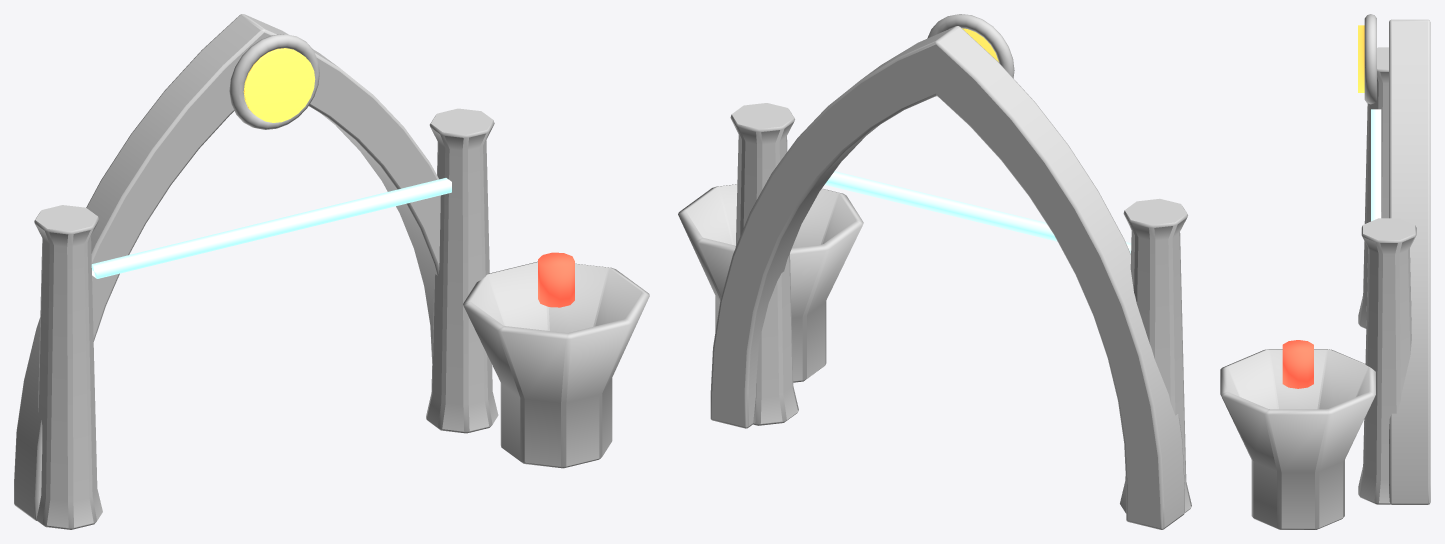
Rendered from prop_content_inspector.glb.
3 renders of one model, left to right at view 1: azimuth 30°, elevation 25°; view 2: azimuth 150°, elevation 25°; view 3: azimuth 270°, elevation 25°, orthographic. The views are drawn at different scales.
Parts seen in each view (by area): view 1: ground__iron_decay, ground__brass_pipe, ground__screen_glow, ground__optic_lens, ground__trim_brass, ground__red_warning; view 2: ground__brass_pipe, ground__iron_decay, ground__screen_glow, ground__trim_brass; view 3: ground__iron_decay, ground__brass_pipe, ground__red_warning, ground__screen_glow, ground__trim_brass, ground__optic_lens.
Boxes of the visible parts, <box> form: ground__iron_decay: <box>34,108,649,529</box>; ground__brass_pipe: <box>14,14,440,520</box>; ground__screen_glow: <box>91,178,451,278</box>; ground__optic_lens: <box>243,48,315,122</box>; ground__trim_brass: <box>229,34,319,129</box>; ground__red_warning: <box>538,252,574,307</box>; ground__brass_pipe: <box>710,26,1184,529</box>; ground__iron_decay: <box>678,103,1191,513</box>; ground__screen_glow: <box>824,171,1131,253</box>; ground__trim_brass: <box>927,14,1014,77</box>; ground__iron_decay: <box>1220,47,1416,529</box>; ground__brass_pipe: <box>1389,19,1430,504</box>; ground__red_warning: <box>1282,340,1313,388</box>; ground__screen_glow: <box>1371,109,1381,221</box>; ground__trim_brass: <box>1364,14,1376,104</box>; ground__optic_lens: <box>1358,25,1364,92</box>.
Size of the model in its own units: 2.15 by 1.66 by 0.81.
